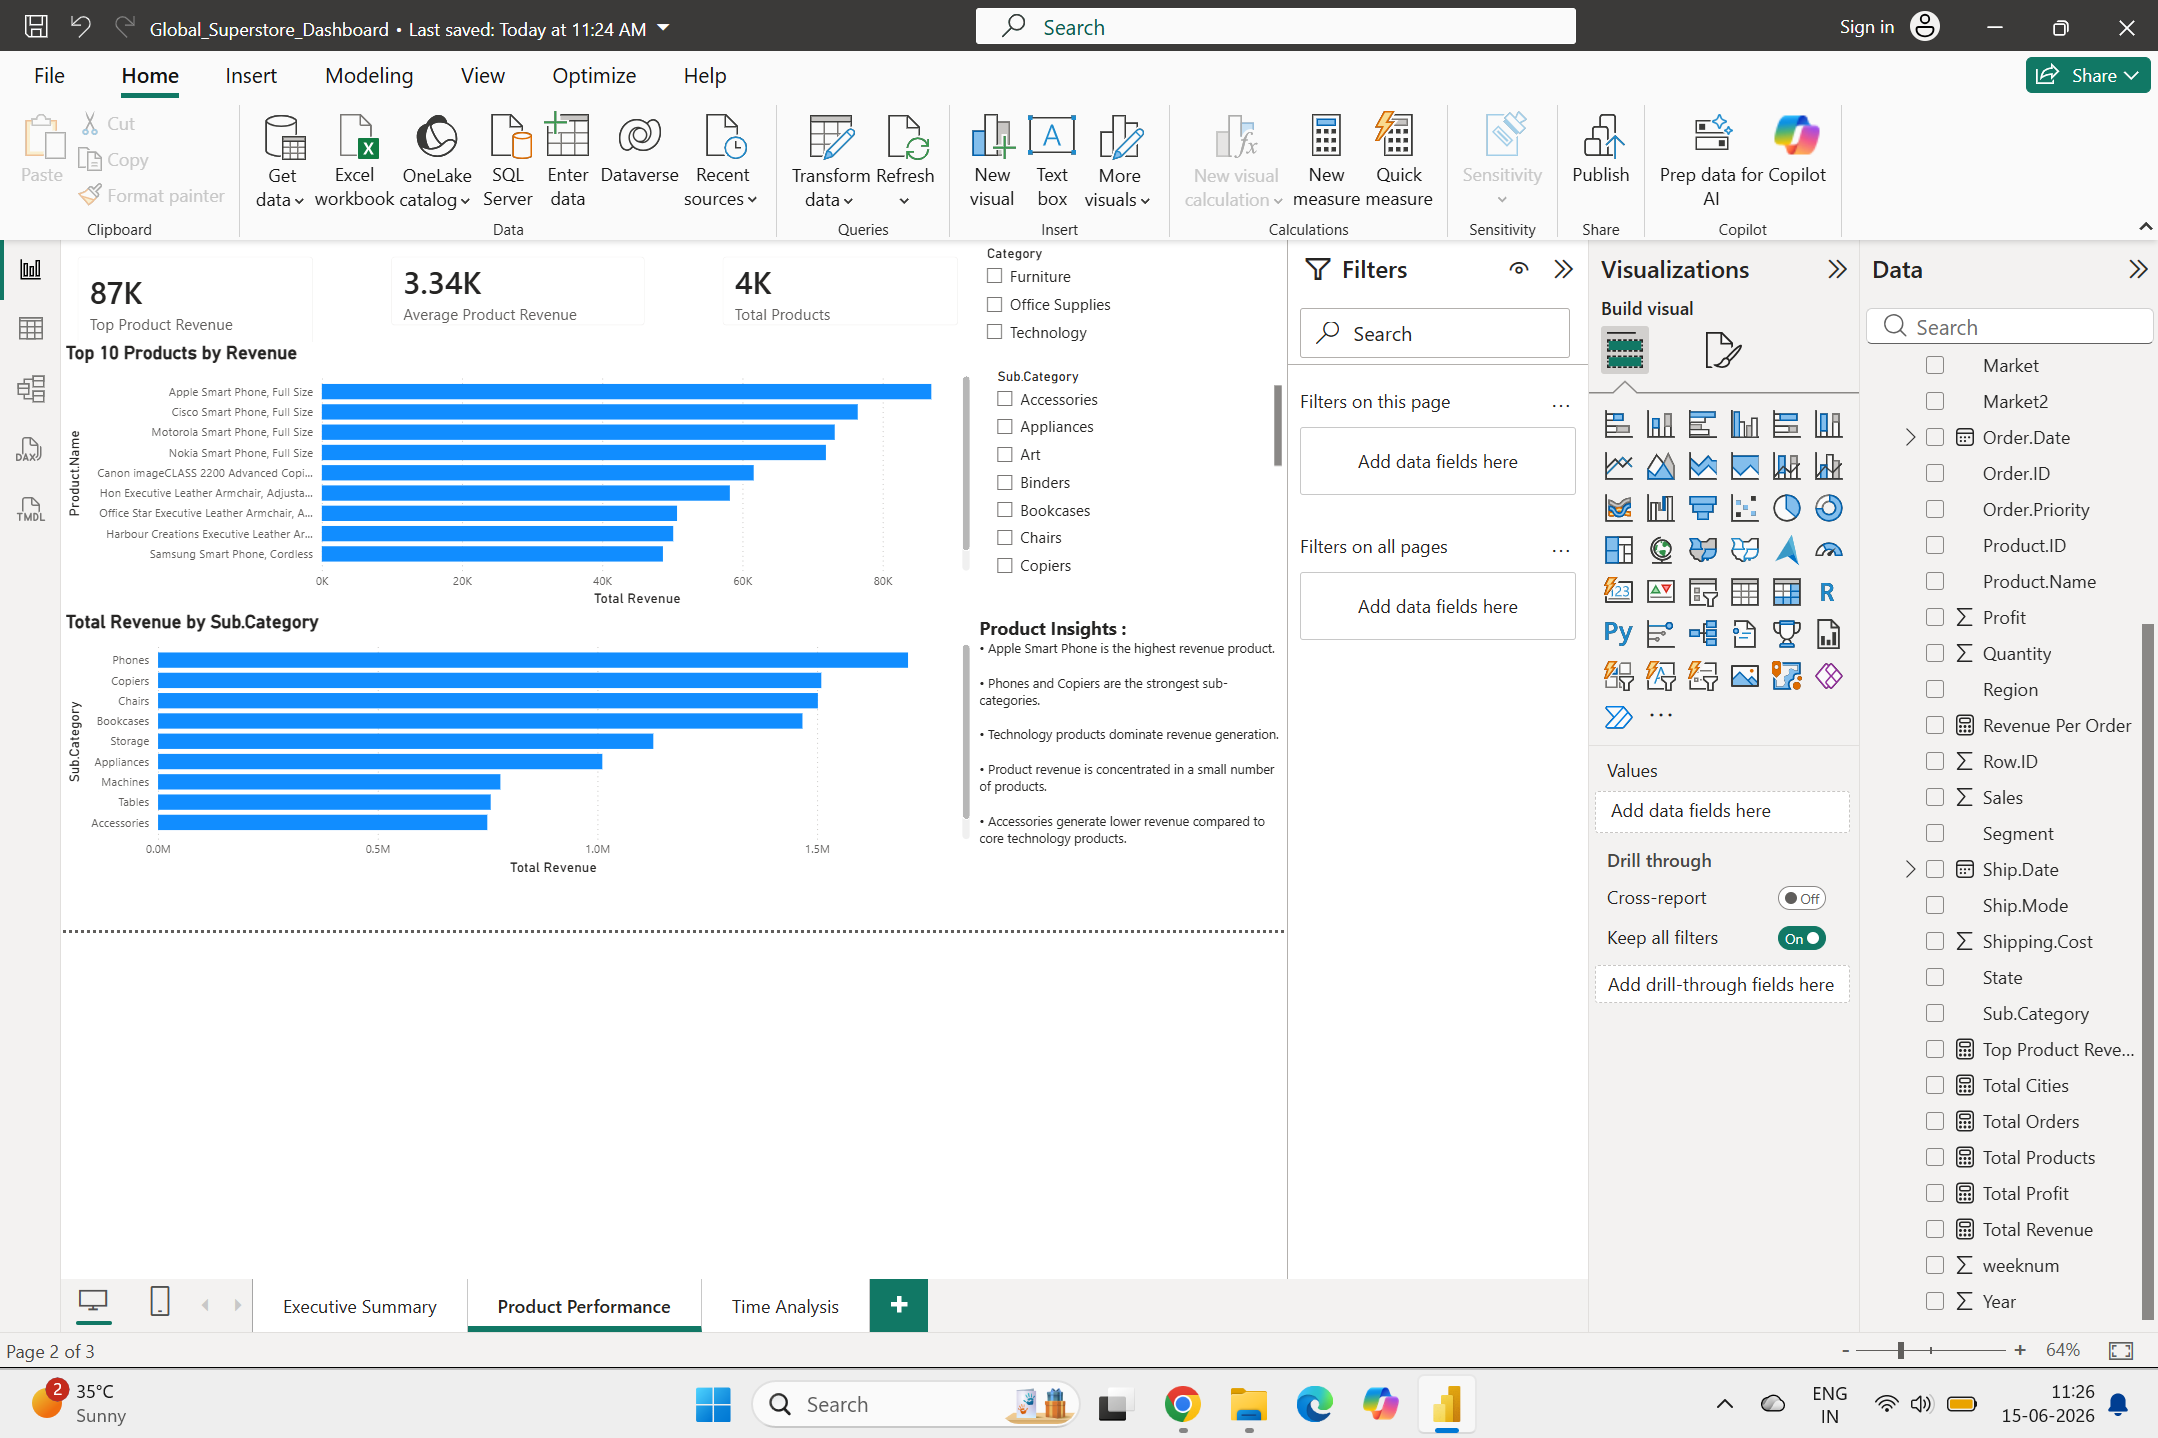

The page's visual inventory and layout, read from the dashboard file:
{"tool":"powerbi","page":{"name":"Product Performance","canvas":[1280,720],"ordinal":1},"visuals":[{"type":"cardVisual","fields":{"Data":["superstore.Top Product Revenue"]},"box":[0,0,280.3,128.4],"z":0},{"type":"cardVisual","fields":{"Data":["superstore.Total Products"]},"box":[673.4,0,280.3,106.5],"z":1000},{"type":"clusteredBarChart","title":"Top 10 Products by Revenue","fields":{"Category":["superstore.Product.Name"],"Y":["superstore.Total Revenue"]},"box":[0,106.5,953.7,280.3],"z":3000},{"type":"clusteredBarChart","fields":{"Category":["superstore.Sub.Category"],"Y":["superstore.Total Revenue"]},"box":[0,386.8,953.7,280.3],"z":4000},{"type":"slicer","fields":{"Values":["superstore.Category"]},"box":[953.7,0,314.8,278.8],"z":4001},{"type":"slicer","fields":{"Values":["superstore.Sub.Category"]},"box":[964.7,128.4,314.8,231.8],"z":4002},{"type":"cardVisual","fields":{"Data":["superstore.Average Product Revenue"]},"box":[327.3,0,299.1,106.5],"z":4003},{"type":"textbox","box":[953.7,386.8,325.7,333.6],"z":4004}]}

Visuals, with their boxes on the page's 1280x720 design canvas (x1, y1, x2, y2). These are canvas units, not pixel positions in the 2158x1438 screenshot, which may show the page scaled, cropped or inside an application window:
cardVisual - superstore.Top Product Revenue: box=[0, 0, 280, 128]
cardVisual - superstore.Total Products: box=[673, 0, 954, 106]
"Top 10 Products by Revenue" clusteredBarChart: box=[0, 106, 954, 387]
clusteredBarChart - superstore.Sub.Category x superstore.Total Revenue: box=[0, 387, 954, 667]
slicer - superstore.Category: box=[954, 0, 1268, 279]
slicer - superstore.Sub.Category: box=[965, 128, 1280, 360]
cardVisual - superstore.Average Product Revenue: box=[327, 0, 626, 106]
textbox: box=[954, 387, 1279, 720]
